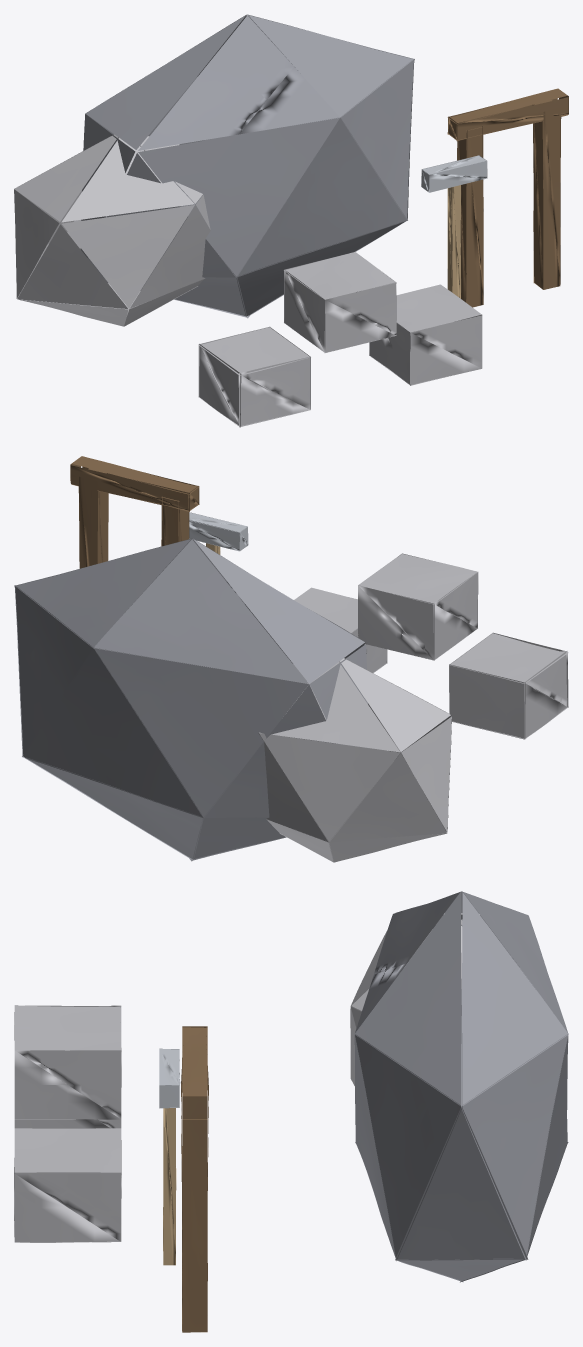
File: quarry.glb
3 views of the same model, one above another, from view 1: azimuth 30°, elevation 25°; view 2: azimuth 150°, elevation 25°; view 3: azimuth 270°, elevation 25° (orthographic). The views are drawn at different scales.
Parts seen in each view (by area): view 1: QuarryFace; view 2: QuarryFace; view 3: QuarryFace.
Part boxes in pixels (bbox=[...]): QuarryFace: bbox=[14, 14, 568, 427]; QuarryFace: bbox=[14, 456, 568, 862]; QuarryFace: bbox=[14, 891, 568, 1332].
Bounding box in the file's own units: 2.63 × 1.7 × 2.18.
